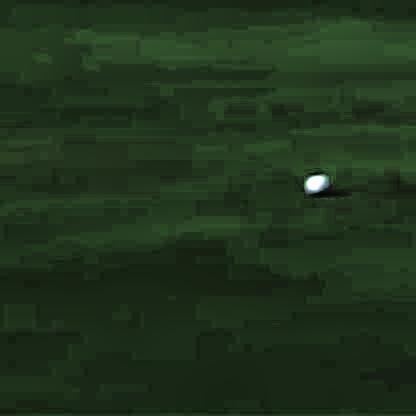golfball: (300, 172, 328, 196)
